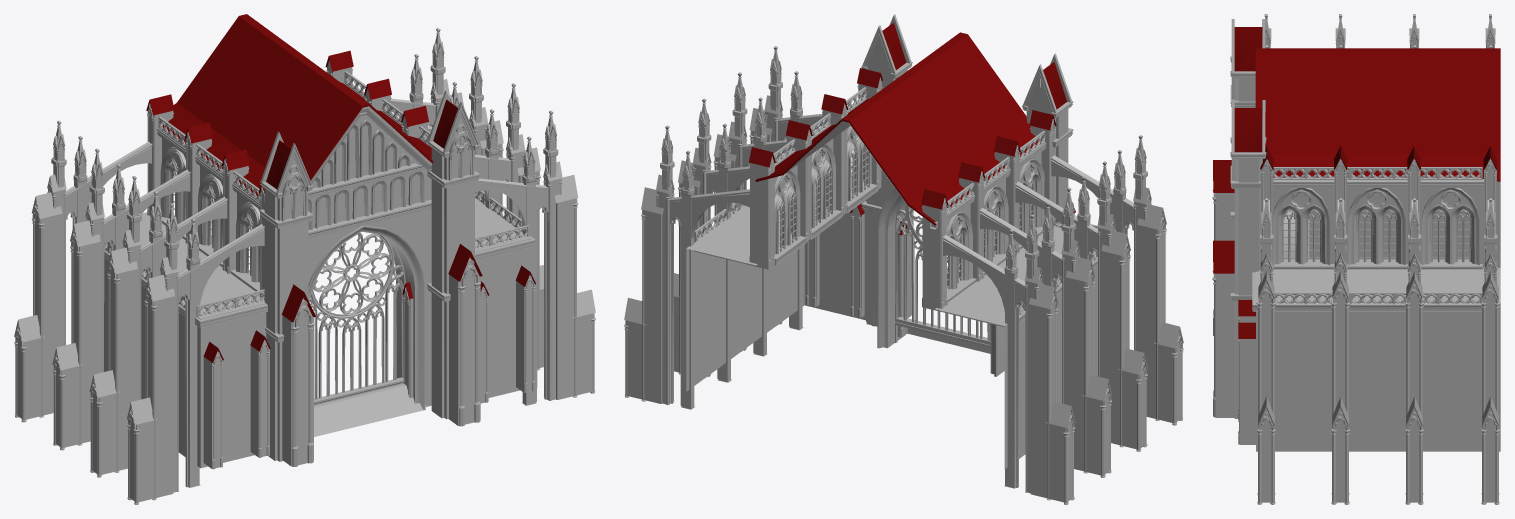
File: wing_001.glb
3 renders of one model, left to right at view 1: azimuth 30°, elevation 25°; view 2: azimuth 150°, elevation 25°; view 3: azimuth 270°, elevation 25°, orthographic. The views are drawn at different scales.
Visible parts, largest first — view 1: wing_001; view 2: wing_001; view 3: wing_001.
Boxes of the visible parts, x1,y1,x2,y2 form: wing_001: [14, 14, 595, 504]; wing_001: [624, 14, 1183, 504]; wing_001: [1212, 14, 1500, 504].
Size of the model in its own units: 5.71 by 4.07 by 3.11.
